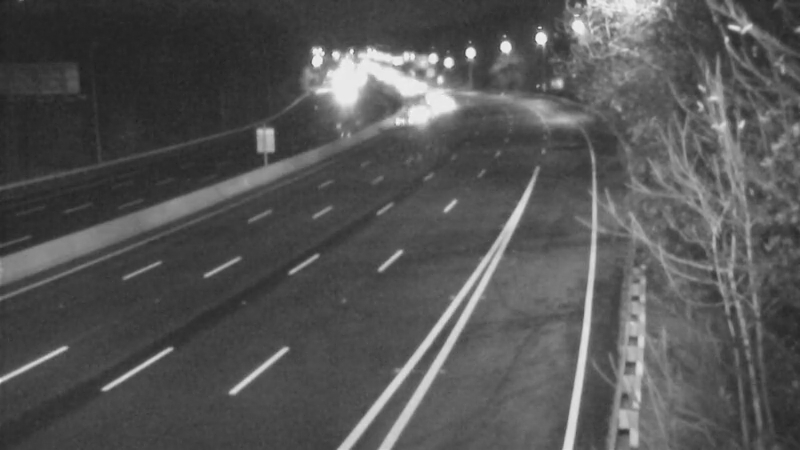vehicle: (425, 78, 475, 128), (393, 86, 443, 136), (380, 92, 430, 142)
